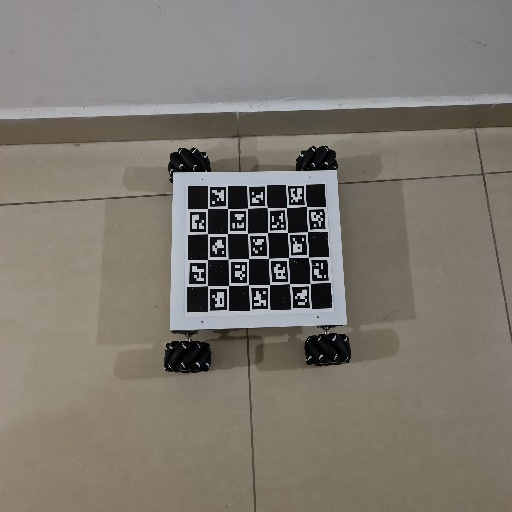Omniwheel: (163, 145, 353, 376)
